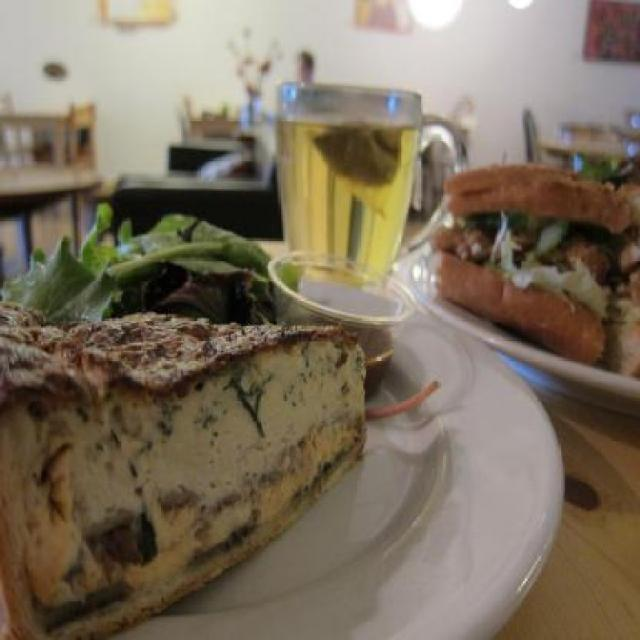Sandwich: (0, 303, 369, 639), (430, 156, 638, 377)
